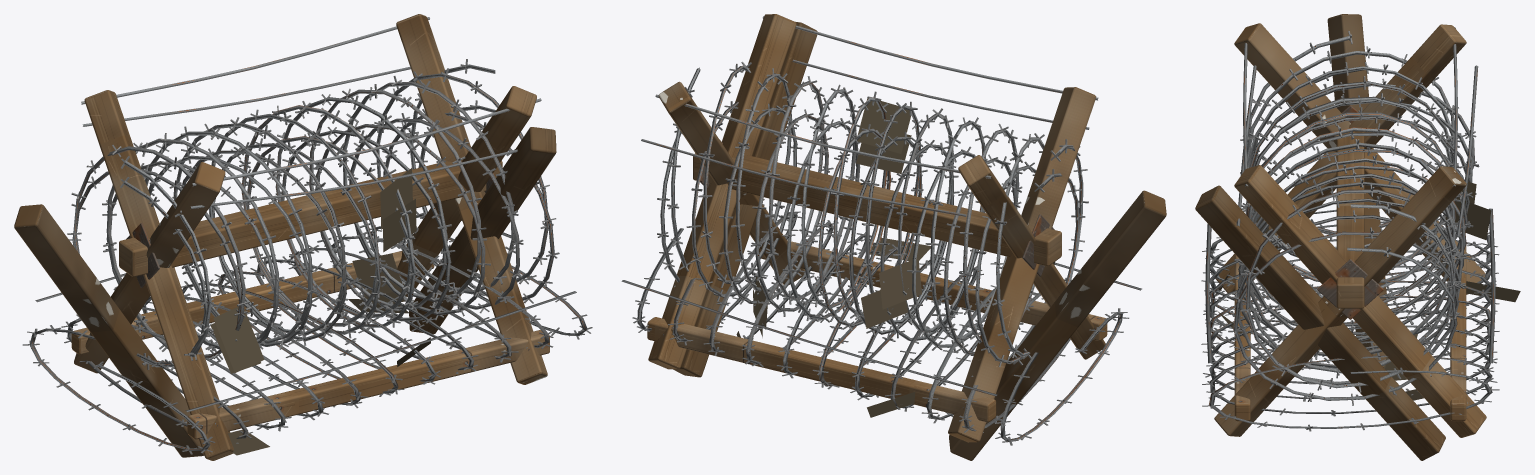
The model's file is BarbedWire.glb.
3 renders of one model, left to right at view 1: azimuth 30°, elevation 25°; view 2: azimuth 150°, elevation 25°; view 3: azimuth 270°, elevation 25°, orthographic. The views are drawn at different scales.
Parts seen in each view (by area): view 1: Timber, Steel, Steel_damaged, Timber_broken, Steel_broken, Plank, Cloth, Cloth_damaged, Cloth_broken, Rust; view 2: Timber, Steel, Steel_damaged, Timber_broken, Steel_broken, Plank, Cloth, Cloth_damaged, Cloth_broken, Rust; view 3: Timber, Steel, Timber_broken, Steel_damaged, Steel_broken, Plank, Rust, Cloth_damaged, Cloth_broken.
Part boxes in pixels (x1=…): Timber: x1=74, y1=14, x2=547, y2=460; Steel: x1=67, y1=17, x2=553, y2=424; Steel_damaged: x1=69, y1=67, x2=559, y2=369; Timber_broken: x1=14, y1=127, x2=556, y2=457; Steel_broken: x1=22, y1=211, x2=592, y2=454; Plank: x1=71, y1=251, x2=549, y2=439; Cloth: x1=174, y1=168, x2=412, y2=372; Cloth_damaged: x1=211, y1=199, x2=416, y2=373; Cloth_broken: x1=142, y1=299, x2=430, y2=455; Rust: x1=126, y1=173, x2=529, y2=426; Timber: x1=648, y1=14, x2=1105, y2=442; Steel: x1=655, y1=16, x2=1098, y2=407; Steel_damaged: x1=641, y1=59, x2=1089, y2=367; Timber_broken: x1=673, y1=21, x2=1166, y2=460; Steel_broken: x1=621, y1=199, x2=1141, y2=445; Plank: x1=647, y1=240, x2=1107, y2=422; Cloth: x1=755, y1=98, x2=921, y2=329; Cloth_damaged: x1=753, y1=134, x2=1054, y2=337; Cloth_broken: x1=736, y1=237, x2=930, y2=417; Rust: x1=663, y1=140, x2=1054, y2=409; Timber: x1=1214, y1=23, x2=1486, y2=437; Steel: x1=1240, y1=27, x2=1467, y2=403; Timber_broken: x1=1195, y1=14, x2=1445, y2=460; Steel_damaged: x1=1228, y1=62, x2=1479, y2=405; Steel_broken: x1=1201, y1=208, x2=1499, y2=431; Plank: x1=1234, y1=245, x2=1466, y2=421; Rust: x1=1317, y1=105, x2=1470, y2=403; Cloth_damaged: x1=1254, y1=198, x2=1491, y2=380; Cloth_broken: x1=1215, y1=273, x2=1520, y2=400.
Size of the model in its own units: 1.07 by 0.7136 by 0.6399.
Materials: 20 (16 with a texture image).
